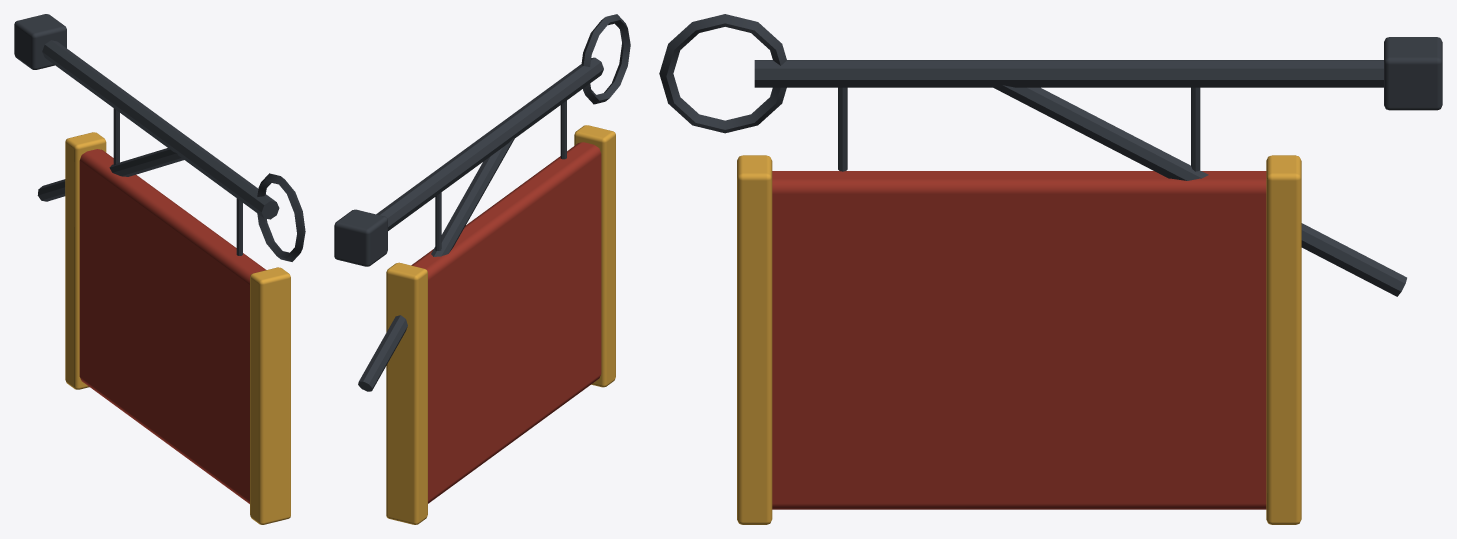
The model's file is mk_sign_red.glb.
3 renders of one model, left to right at view 1: azimuth 30°, elevation 25°; view 2: azimuth 150°, elevation 25°; view 3: azimuth 270°, elevation 25°, orthographic. The views are drawn at different scales.
Visible parts, largest first — view 1: mk_sign_red_body; view 2: mk_sign_red_body; view 3: mk_sign_red_body.
Boxes of the visible parts, x1,y1,x2,y2 form: mk_sign_red_body: (14,14,305,524); mk_sign_red_body: (334,14,630,524); mk_sign_red_body: (659,14,1442,524).
Size of the model in its own units: 0.1 by 0.942 by 1.33.
